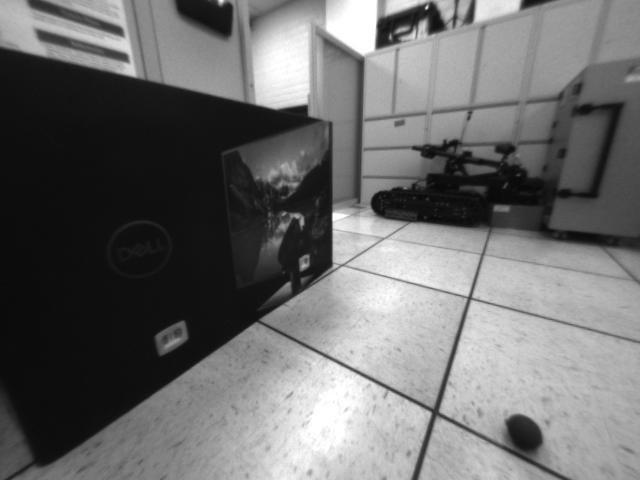dogtoy: (501, 407, 549, 457)
